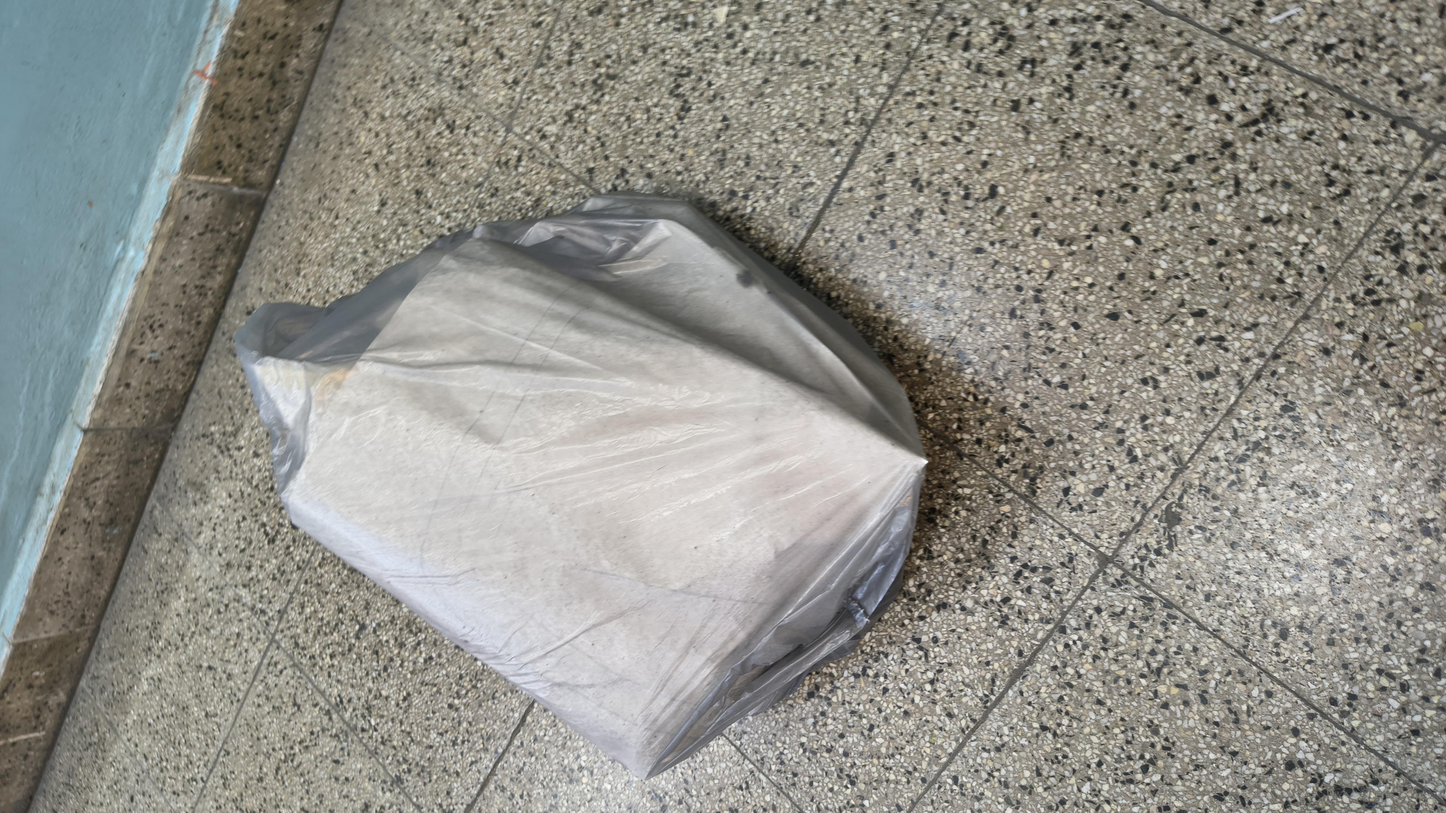Garbage: (31, 103, 1287, 538)
